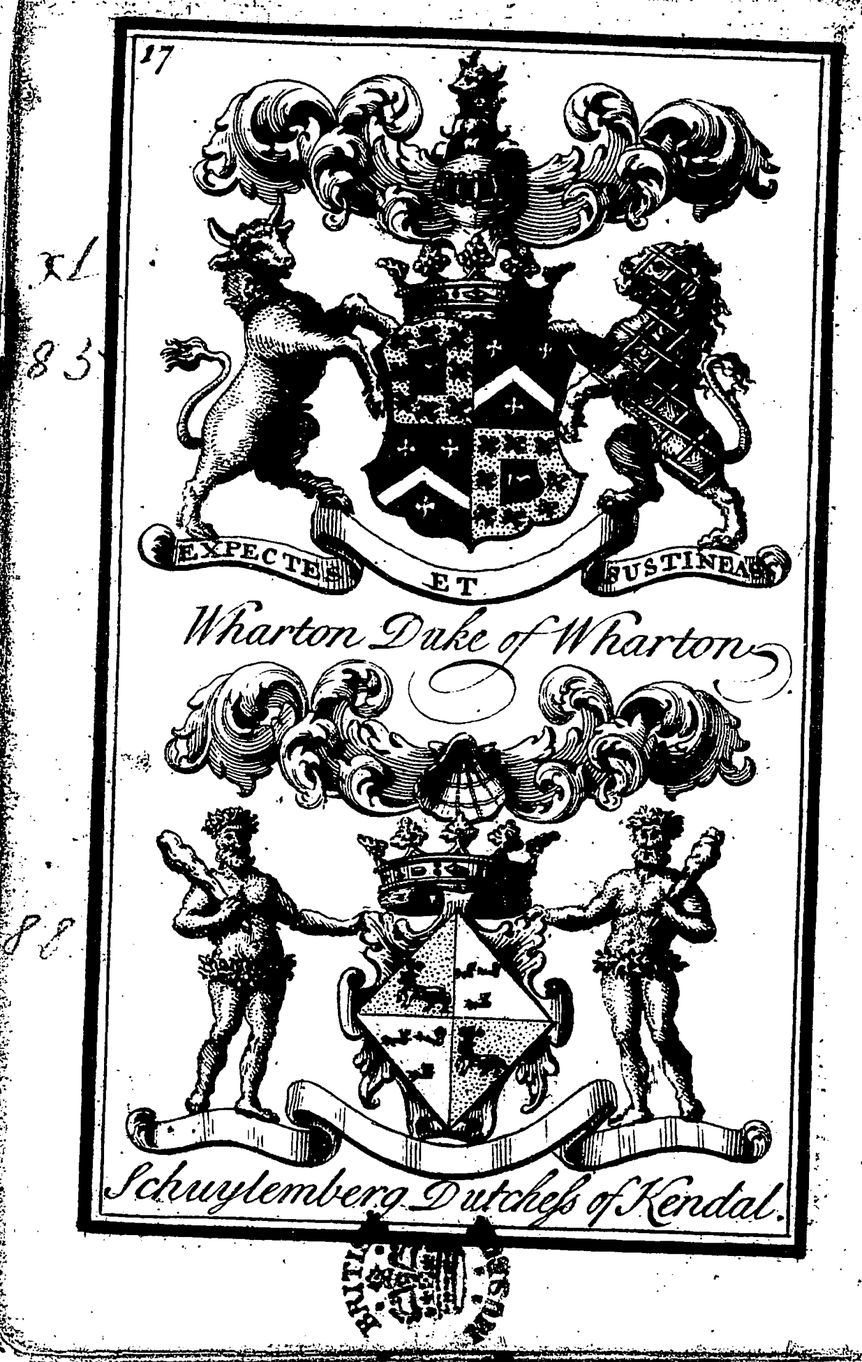coat_of_arms: (144, 38, 783, 676), (142, 649, 778, 1230)
